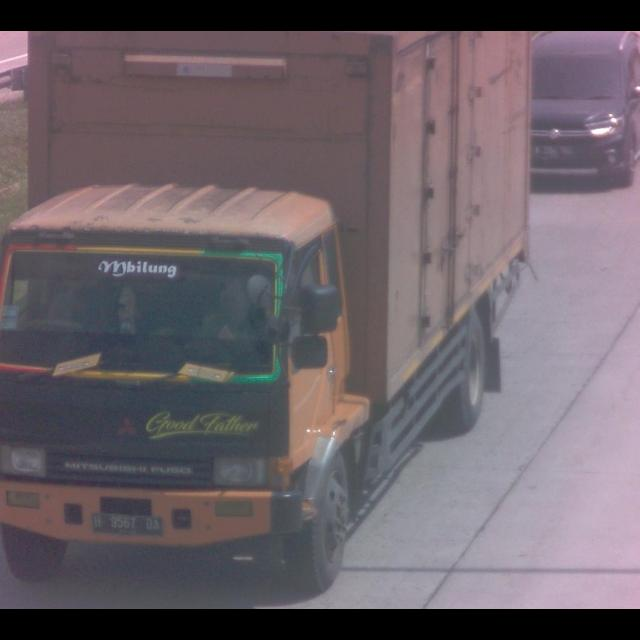plate: (92, 508, 164, 540)
